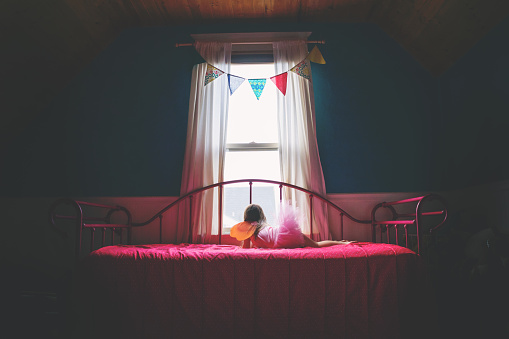deitado: (224, 208, 273, 237)
